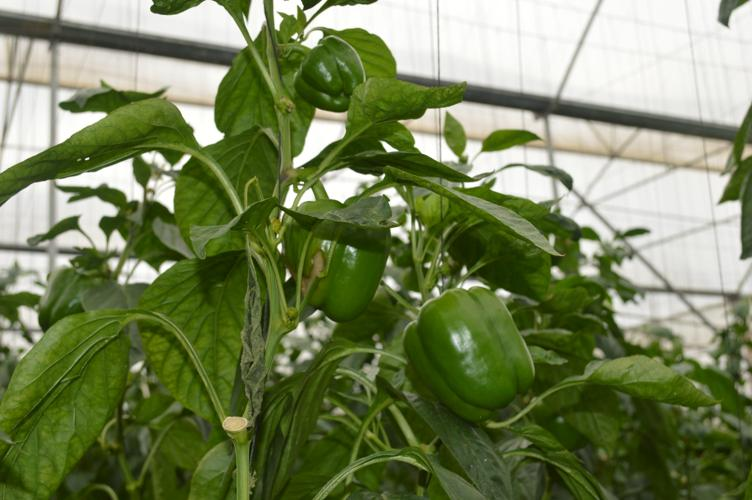BellPepper: (398, 280, 546, 434), (284, 186, 395, 319), (288, 35, 368, 116)
